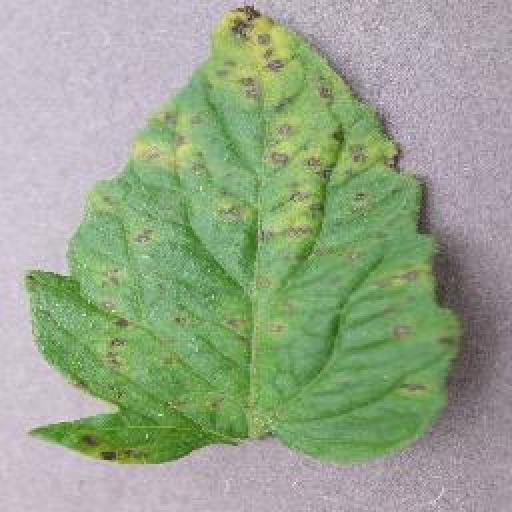Septoria: (23, 3, 464, 465)
